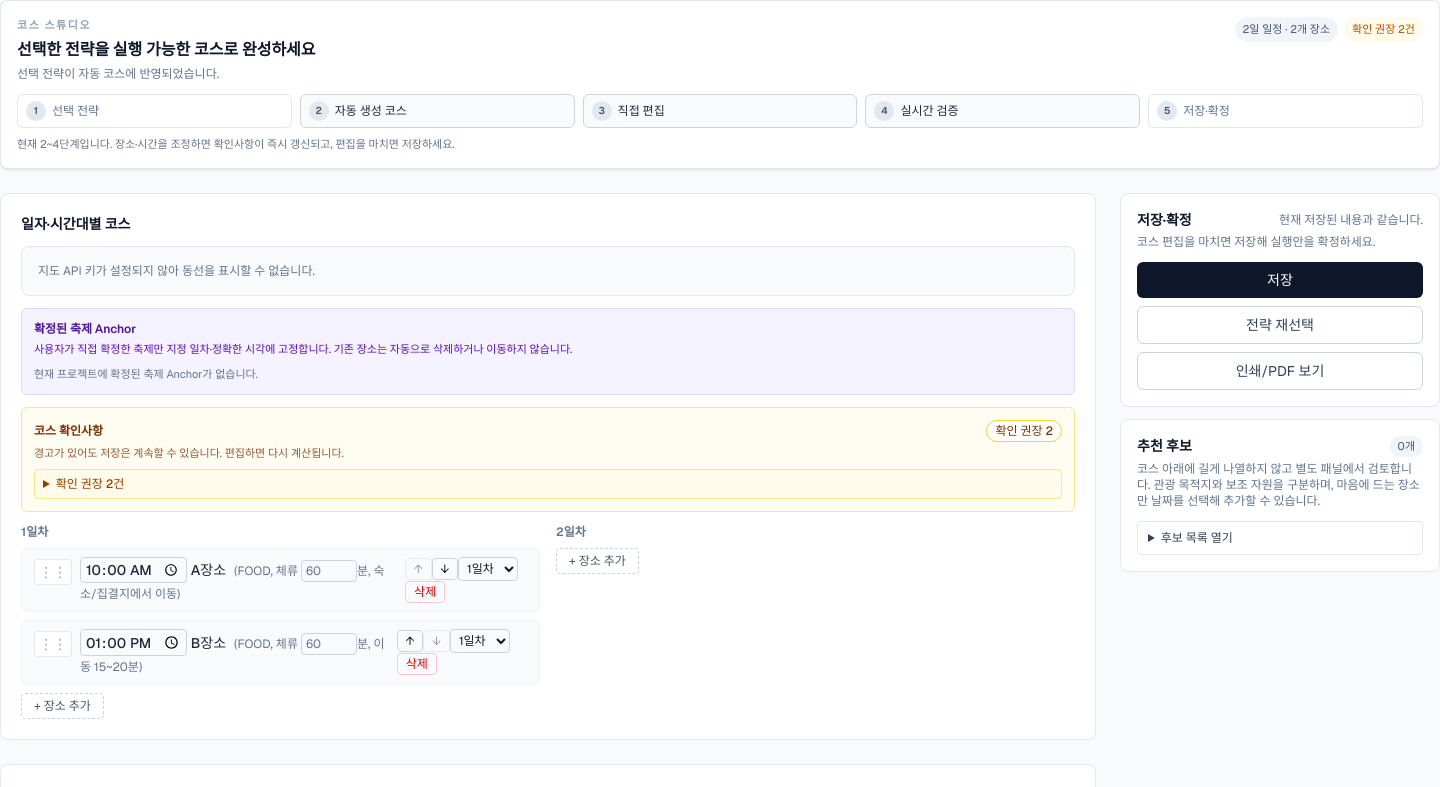
Test case: PlanEditor 코스 추가/삭제/이동 › 다른 날짜로 이동하면 원래 날짜에서는 빠지고, 대상 날짜에서는 원래 시간을 그대로 유지한 채 나타난다
Select "2일차" in the dropdown named "A장소 다른 날짜로 이동" at (488, 569), box [458,557,518,581]
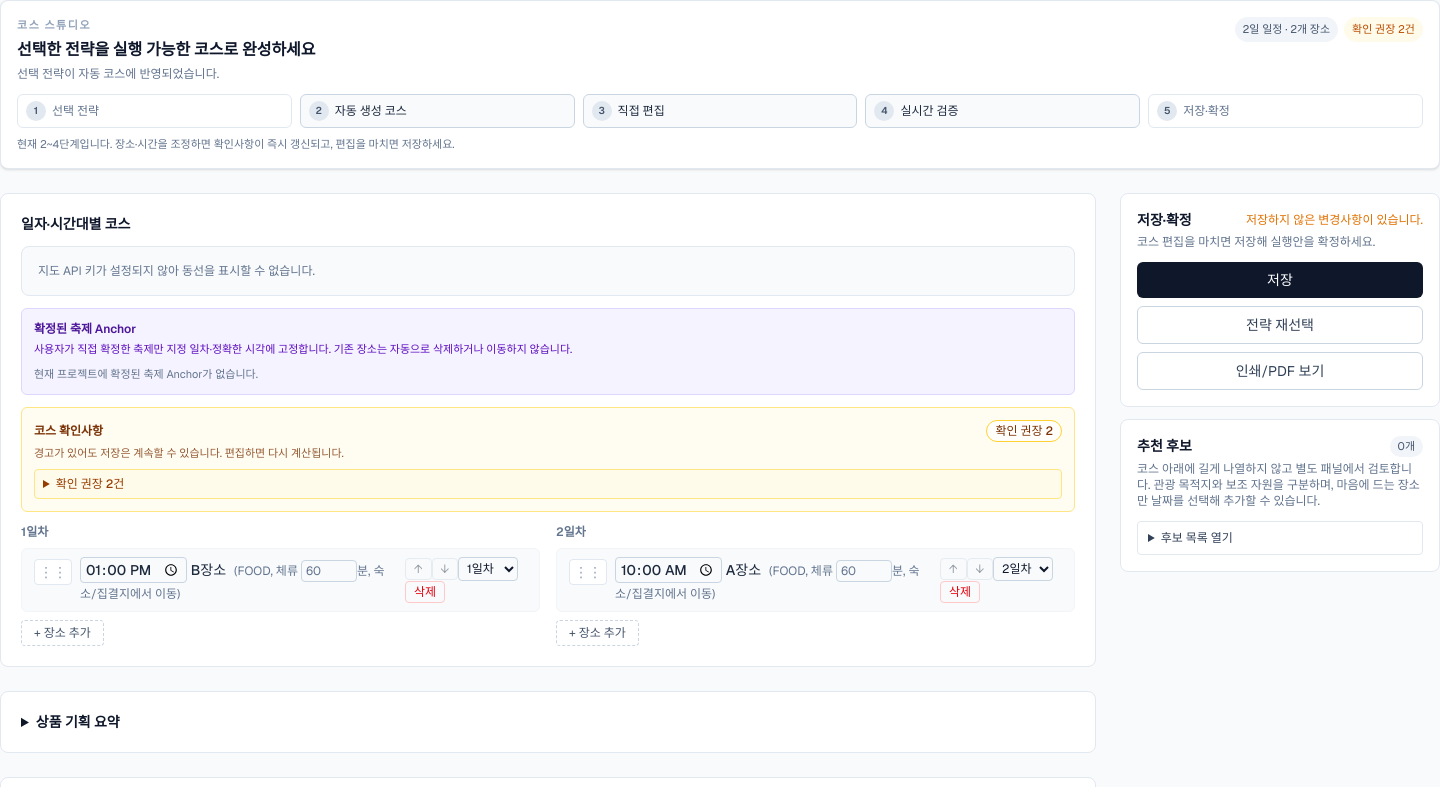
Expected: the text "B장소" is shown, [80,561,226,579]
Expected: the text "A장소" is shown, [615,561,761,579]
